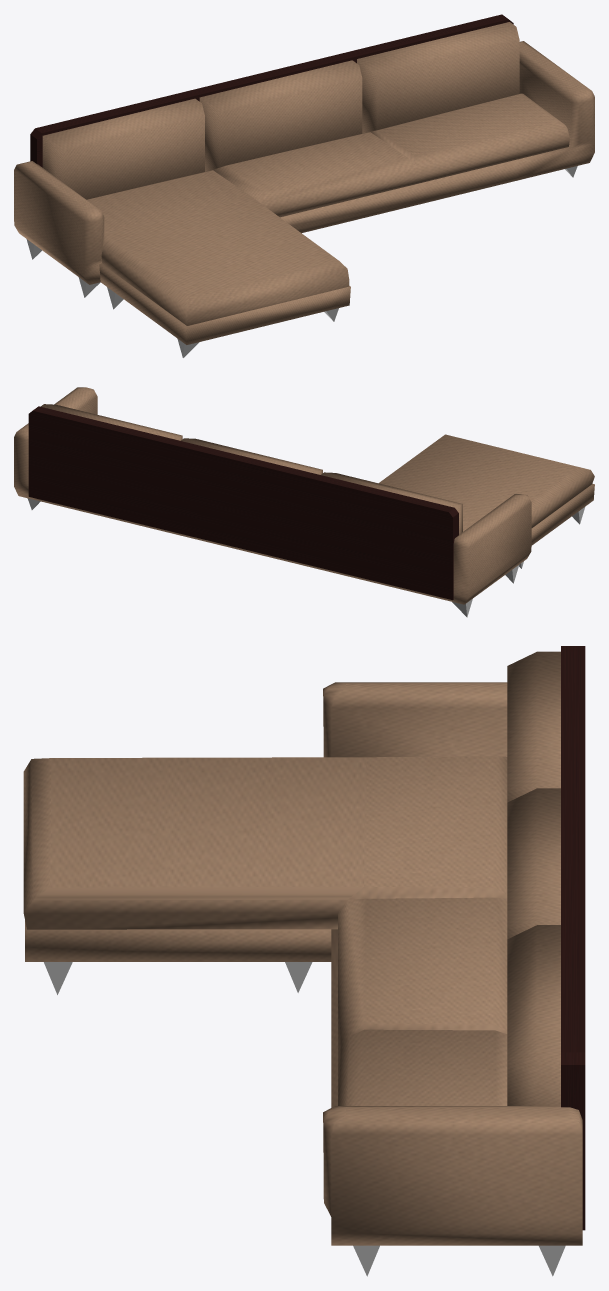
Rendered from Chaise_Sofa_B_07.FBX.
3 renders of one model, top to bottom at view 1: azimuth 30°, elevation 25°; view 2: azimuth 150°, elevation 25°; view 3: azimuth 270°, elevation 25°, orthographic. The views are drawn at different scales.
Visible parts, largest first — view 1: Chaise_Sofa_B; view 2: Chaise_Sofa_B; view 3: Chaise_Sofa_B.
Part boxes in pixels (x1,y1,x2,y2): Chaise_Sofa_B: (14, 14, 594, 357); Chaise_Sofa_B: (14, 387, 594, 617); Chaise_Sofa_B: (23, 646, 585, 1276).
Size of the model in its own units: 685 by 157 by 366.
